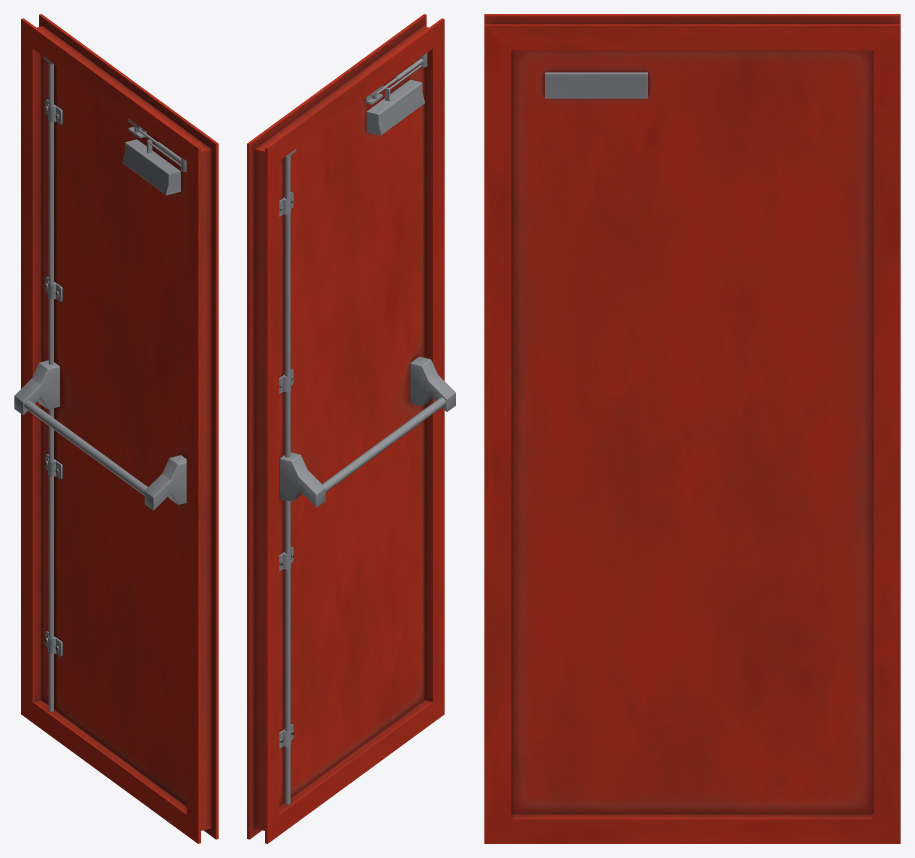
The model's file is Fire Door.glb.
3 views of the same model, side by side, from view 1: azimuth 30°, elevation 25°; view 2: azimuth 150°, elevation 25°; view 3: azimuth 270°, elevation 25° (orthographic). The views are drawn at different scales.
Parts seen in each view (by area): view 1: fire_door; view 2: fire_door; view 3: fire_door.
Part boxes in pixels (x1=…): fire_door: x1=14, y1=14, x2=218, y2=843; fire_door: x1=247, y1=14, x2=455, y2=843; fire_door: x1=484, y1=14, x2=900, y2=843.
Bounding box in the file's own units: 0.6123 × 8.35 × 3.86.
1 material, 1 textured.
